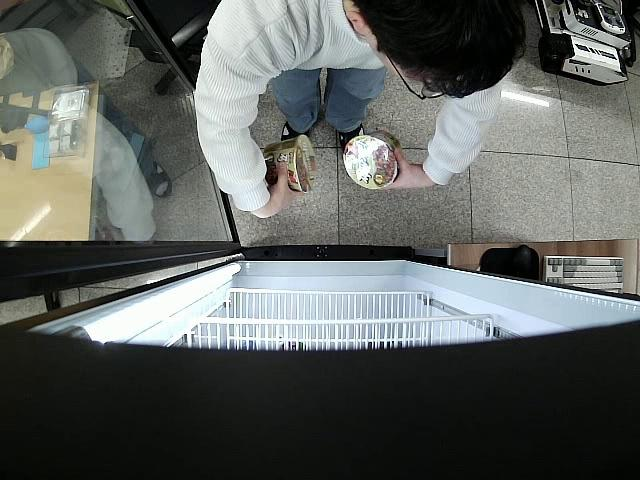00_hand: (252, 160, 303, 217), (383, 145, 437, 189)
03_chapagetti_L: (341, 128, 403, 191), (261, 135, 318, 195)
